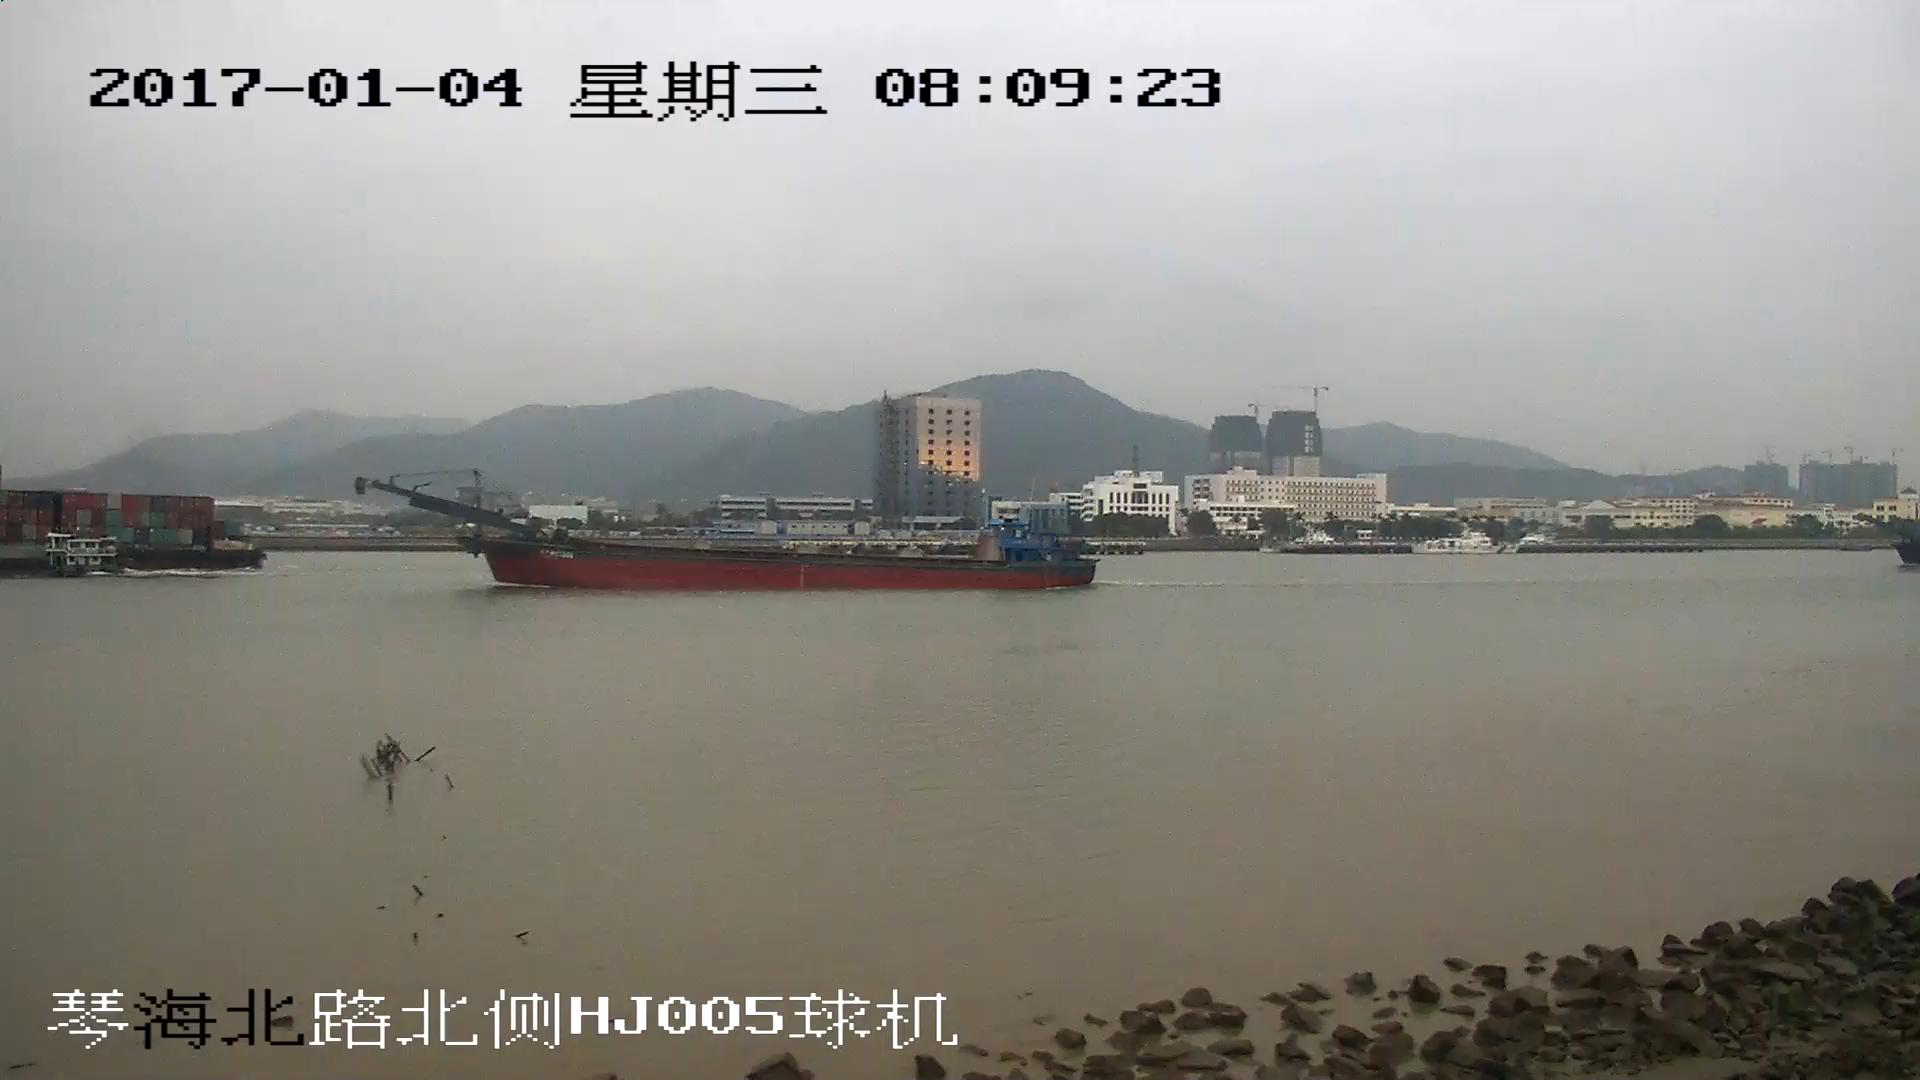bulk cargo carrier: (359, 477, 1091, 587)
container ship: (1, 492, 261, 570)
